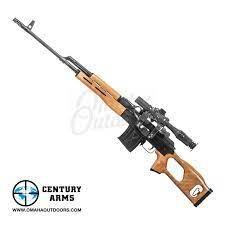larga: (13, 18, 214, 208)
